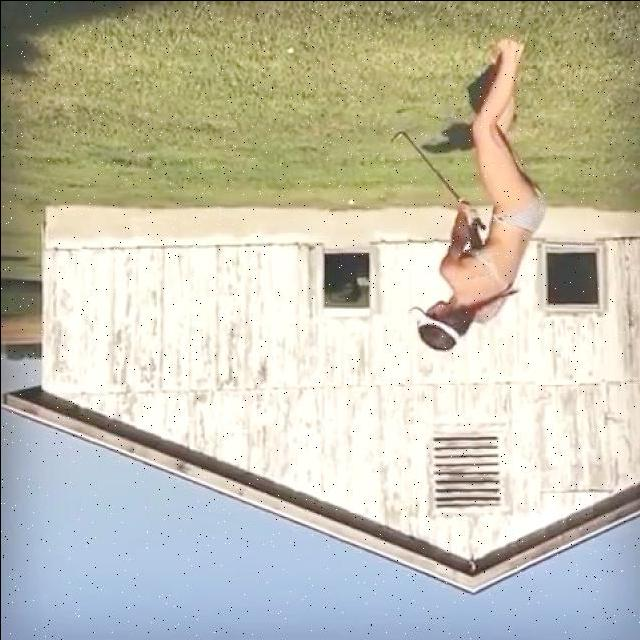golf ball: (345, 198, 354, 205)
golf club-handle: (390, 129, 486, 230)
golf club-head: (390, 128, 404, 144)
